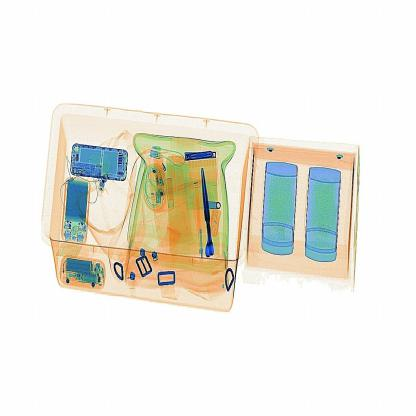gun: (191, 158, 229, 268)
